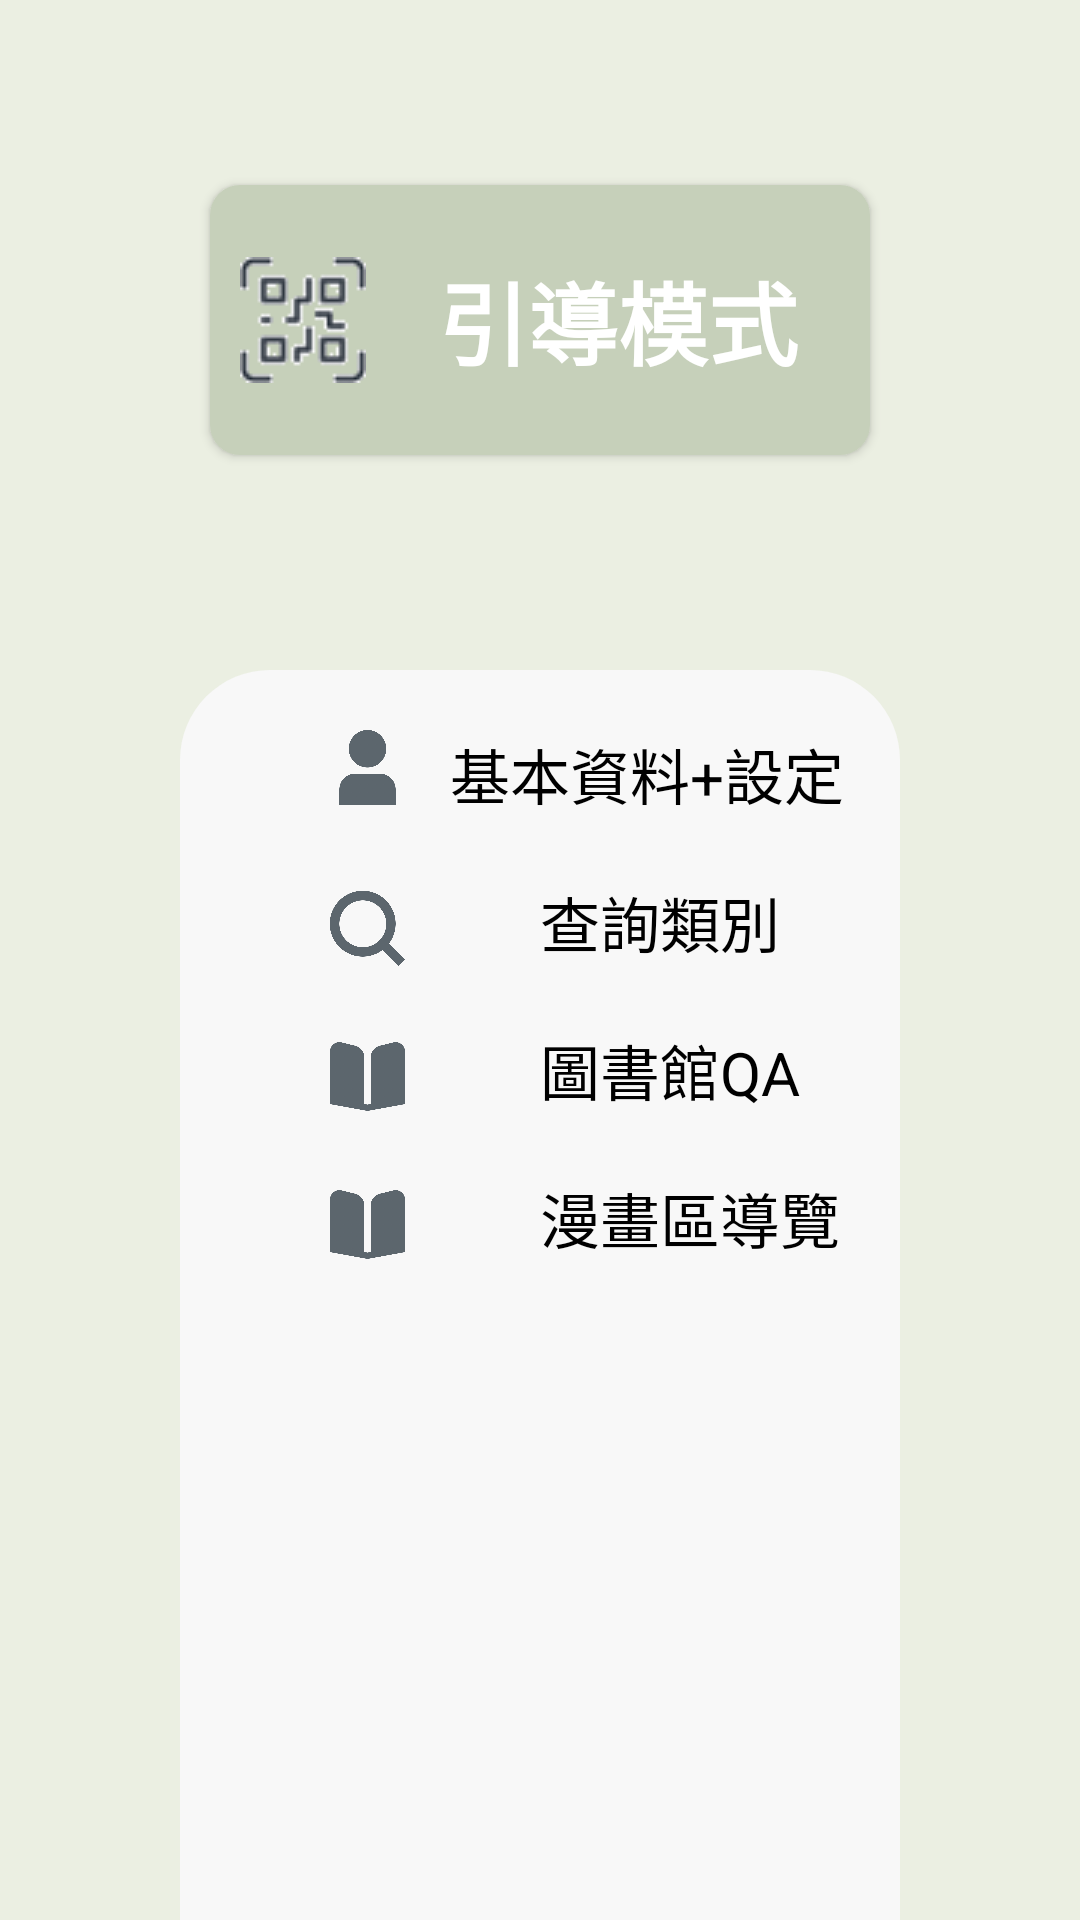

Where icons sit on this 1080 × 1920 app screen, as (x1, y1, x2, y2):
book: (330, 1042, 405, 1111), (330, 1190, 405, 1259)
search: (330, 891, 405, 966)
user: (339, 730, 396, 805)
